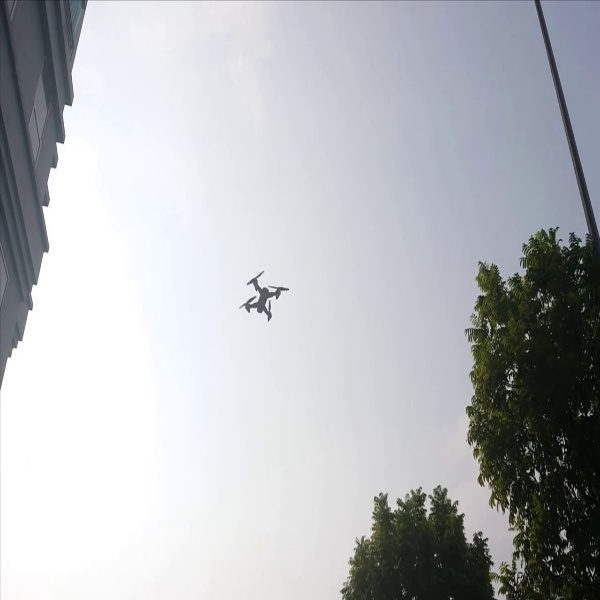drone: (231, 254, 293, 333)
